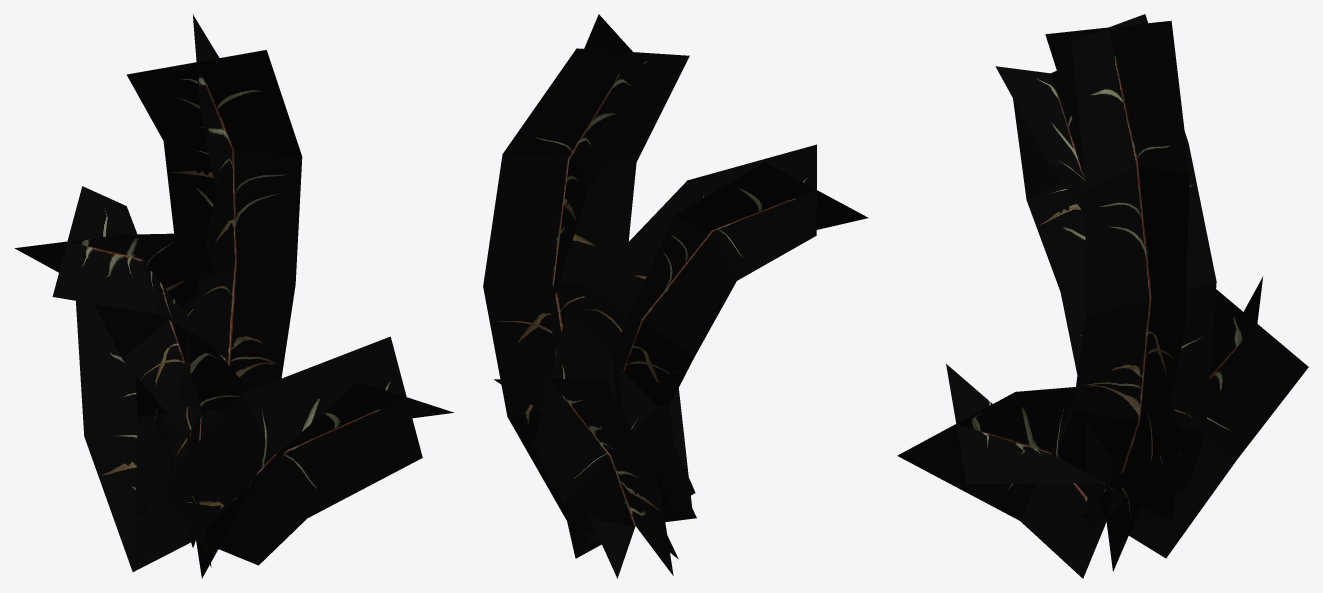
Rendered from shrub_02.fbx.
The picture shows the model from 3 angles, left to right: view 1: azimuth 30°, elevation 25°; view 2: azimuth 150°, elevation 25°; view 3: azimuth 270°, elevation 25°; orthographic projection. The views are drawn at different scales.
Visible parts, largest first — view 1: shrub_02; view 2: shrub_02; view 3: shrub_02.
Boxes of the visible parts, x1,y1,x2,y2 form: shrub_02: [14, 14, 453, 578]; shrub_02: [483, 14, 868, 578]; shrub_02: [897, 14, 1308, 578].
Size of the model in its own units: 76.84 by 102 by 69.37.
